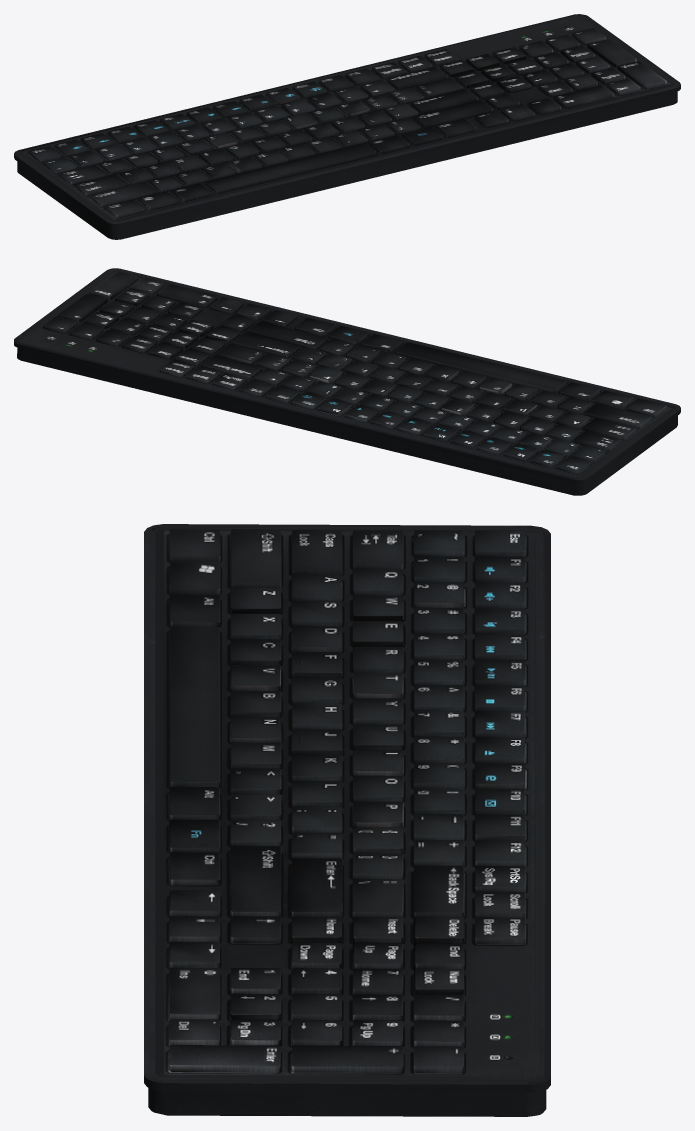
The model's file is Keyboard.FBX.
3 views of the same model, one above another, from view 1: azimuth 30°, elevation 25°; view 2: azimuth 150°, elevation 25°; view 3: azimuth 270°, elevation 25° (orthographic). The views are drawn at different scales.
Parts seen in each view (by area): view 1: keyboard; view 2: keyboard; view 3: keyboard.
Boxes of the visible parts, left/top/right/bottom form: keyboard: left=14, top=14, right=680, bottom=239; keyboard: left=14, top=268, right=680, bottom=495; keyboard: left=144, top=524, right=550, bottom=1116.
Bounding box in the file's own units: 45.19 × 1.62 × 13.91.
1 material, 1 textured.
